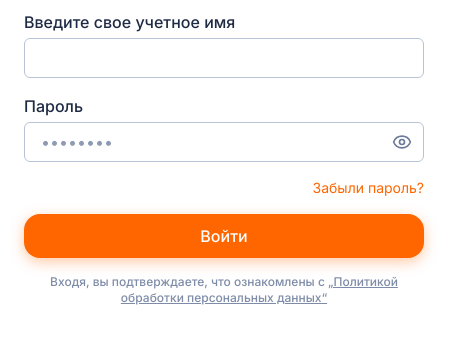
Test: LoginForm › Client-side Validation › should show validation error for password without digit
In the field labelled "Введите свое учетное имя": (224,58) [24,38,424,78], type "test@example.com"
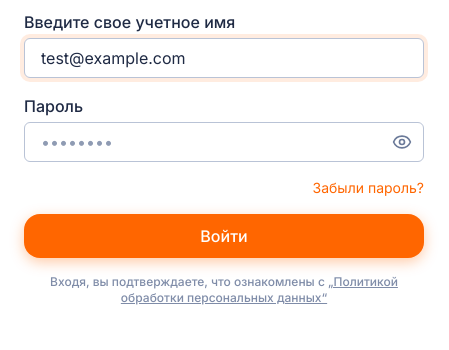
In the password field labelled "Пароль": (224,142) [24,122,424,162], type "NoDigitsHere"
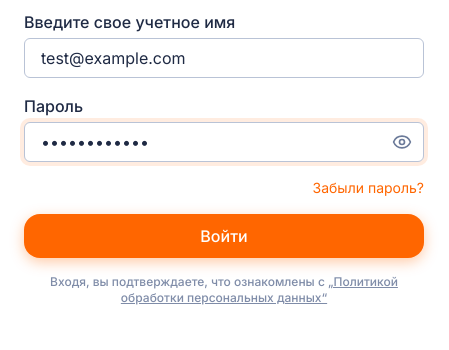
Click the button "Войти": (224,236) [24,214,424,258]
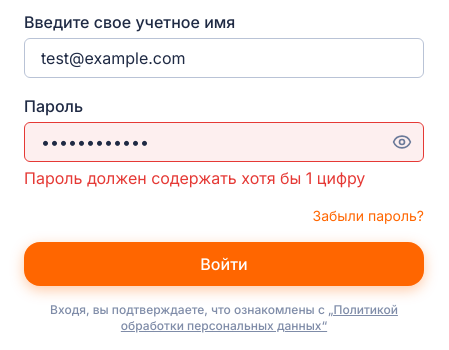
Expected: the text "Пароль должен содержать хотя бы 1 цифру" is shown, [24,166,424,190]
